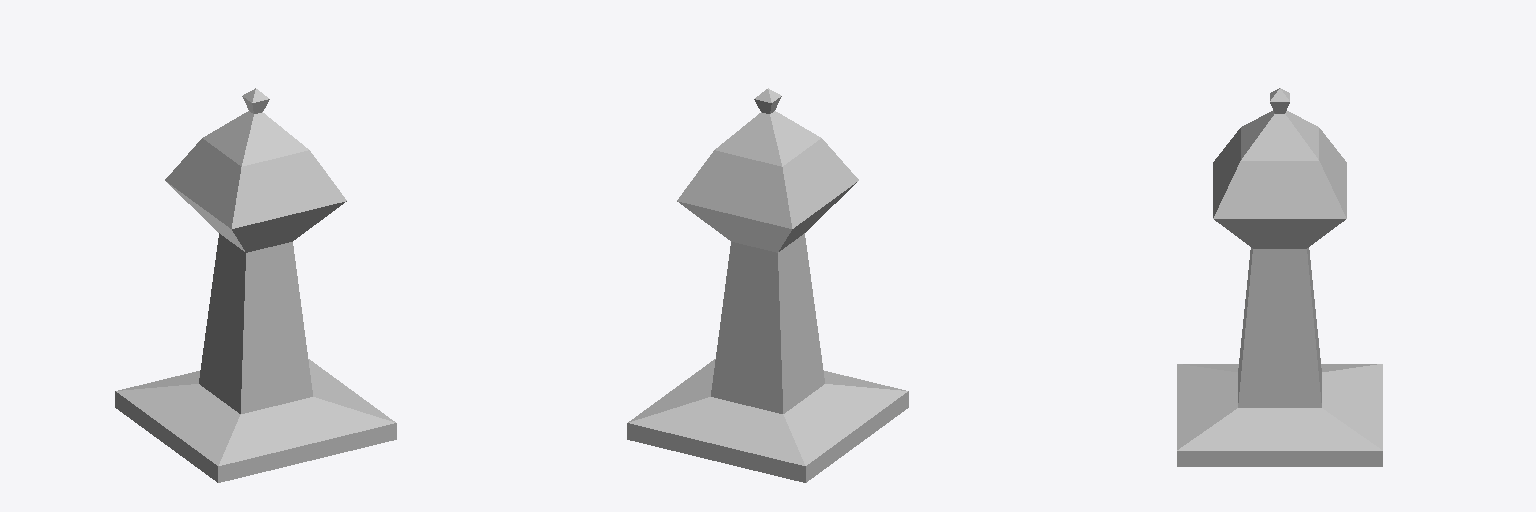
Rendered from Piece_Bishop.obj.
3 renders of one model, left to right at view 1: azimuth 30°, elevation 25°; view 2: azimuth 150°, elevation 25°; view 3: azimuth 270°, elevation 25°, orthographic.
Parts seen in each view (by area): view 1: Piece_Bishop_Cube; view 2: Piece_Bishop_Cube; view 3: Piece_Bishop_Cube.
Boxes of the visible parts, x1,y1,x2,y2 form: Piece_Bishop_Cube: [115, 88, 396, 482]; Piece_Bishop_Cube: [627, 88, 908, 482]; Piece_Bishop_Cube: [1177, 88, 1382, 466].
Bounding box in the file's own units: 1 × 1.8 × 1.